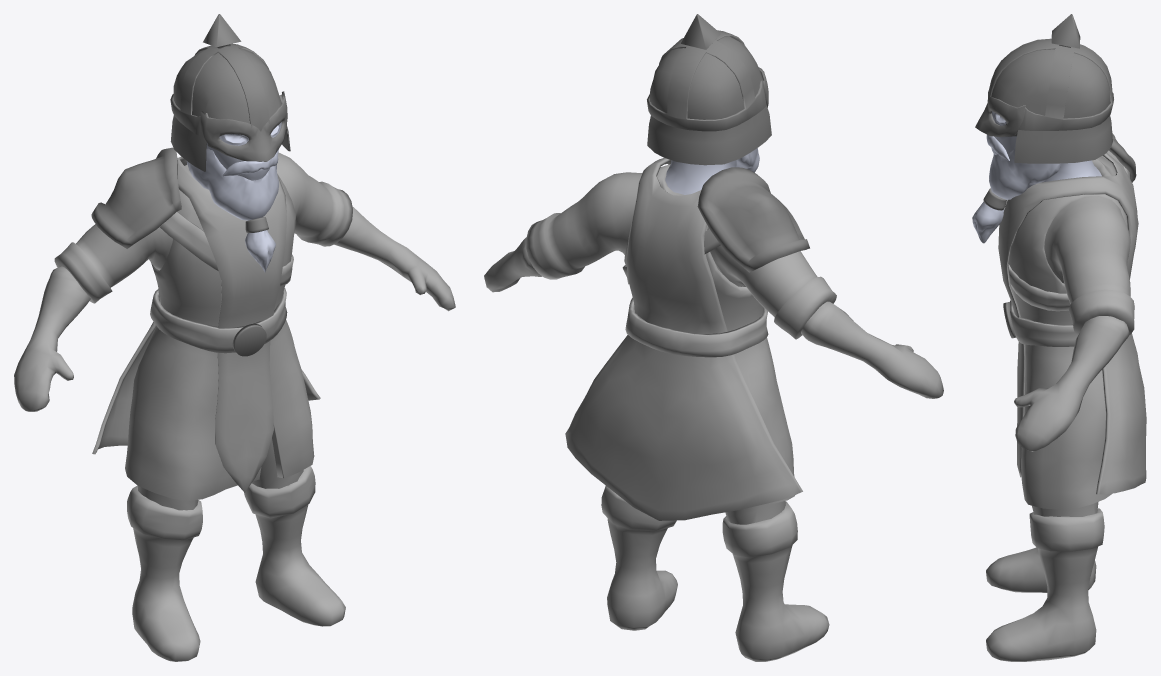
File: Game_low.fbx
3 renders of one model, left to right at view 1: azimuth 30°, elevation 25°; view 2: azimuth 150°, elevation 25°; view 3: azimuth 270°, elevation 25°, orthographic. The views are drawn at different scales.
Visible parts, largest first — view 1: Merged_Hermond_low1_2; view 2: Merged_Hermond_low1_2; view 3: Merged_Hermond_low1_2.
Part boxes in pixels (<box>): Merged_Hermond_low1_2: <box>14,14,455,661</box>; Merged_Hermond_low1_2: <box>484,14,943,661</box>; Merged_Hermond_low1_2: <box>972,14,1146,661</box>.
Size of the model in its own units: 241 by 321 by 83.7.
